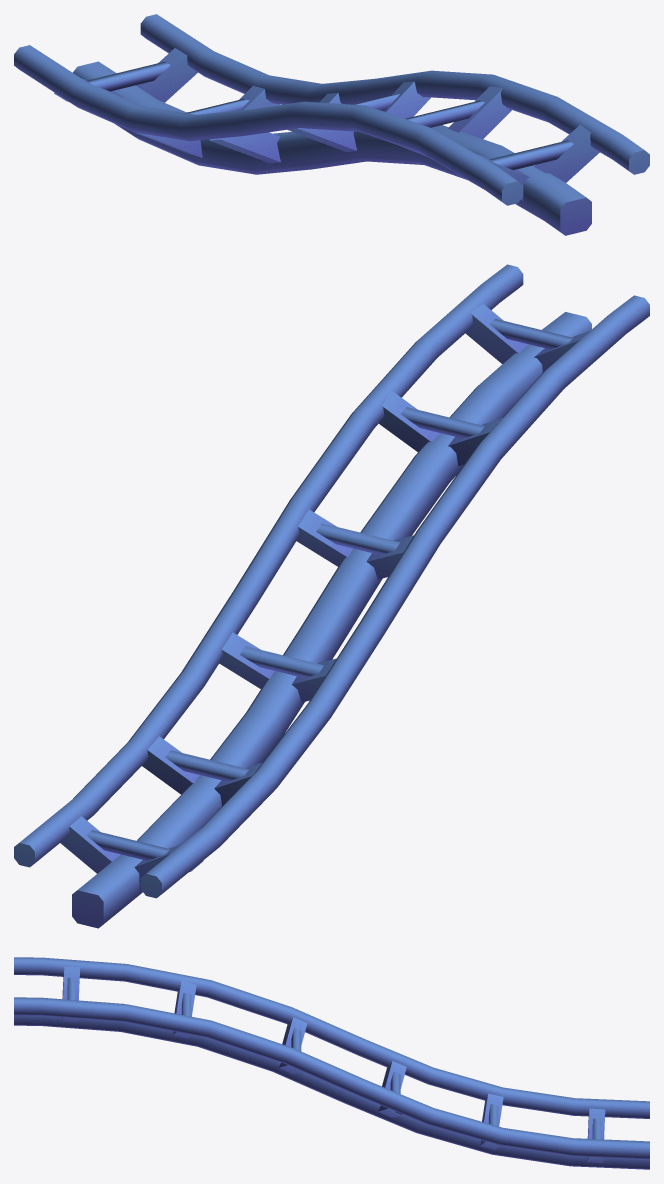
Rendered from coaster_steel_straight_hill_complete.glb.
The picture shows the model from 3 angles, top to bottom: view 1: azimuth 30°, elevation 25°; view 2: azimuth 150°, elevation 25°; view 3: azimuth 270°, elevation 25°; orthographic projection. The views are drawn at different scales.
Visible parts, largest first — view 1: coaster-steel-straight-hill-complete; view 2: coaster-steel-straight-hill-complete; view 3: coaster-steel-straight-hill-complete.
Part boxes in pixels (x1,y1,x2,y2): coaster-steel-straight-hill-complete: [14, 14, 649, 235]; coaster-steel-straight-hill-complete: [14, 264, 649, 928]; coaster-steel-straight-hill-complete: [14, 957, 649, 1169].
Bounding box in the file's own units: 0.7 × 1.3 × 4.
1 material, 1 textured.
